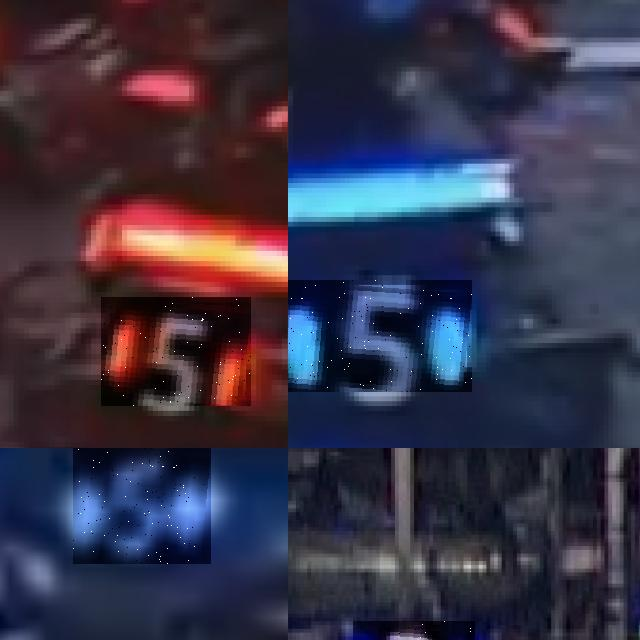B2: (353, 621, 475, 640)
B5: (288, 280, 472, 391), (73, 448, 210, 564)
R5: (101, 297, 251, 406)
